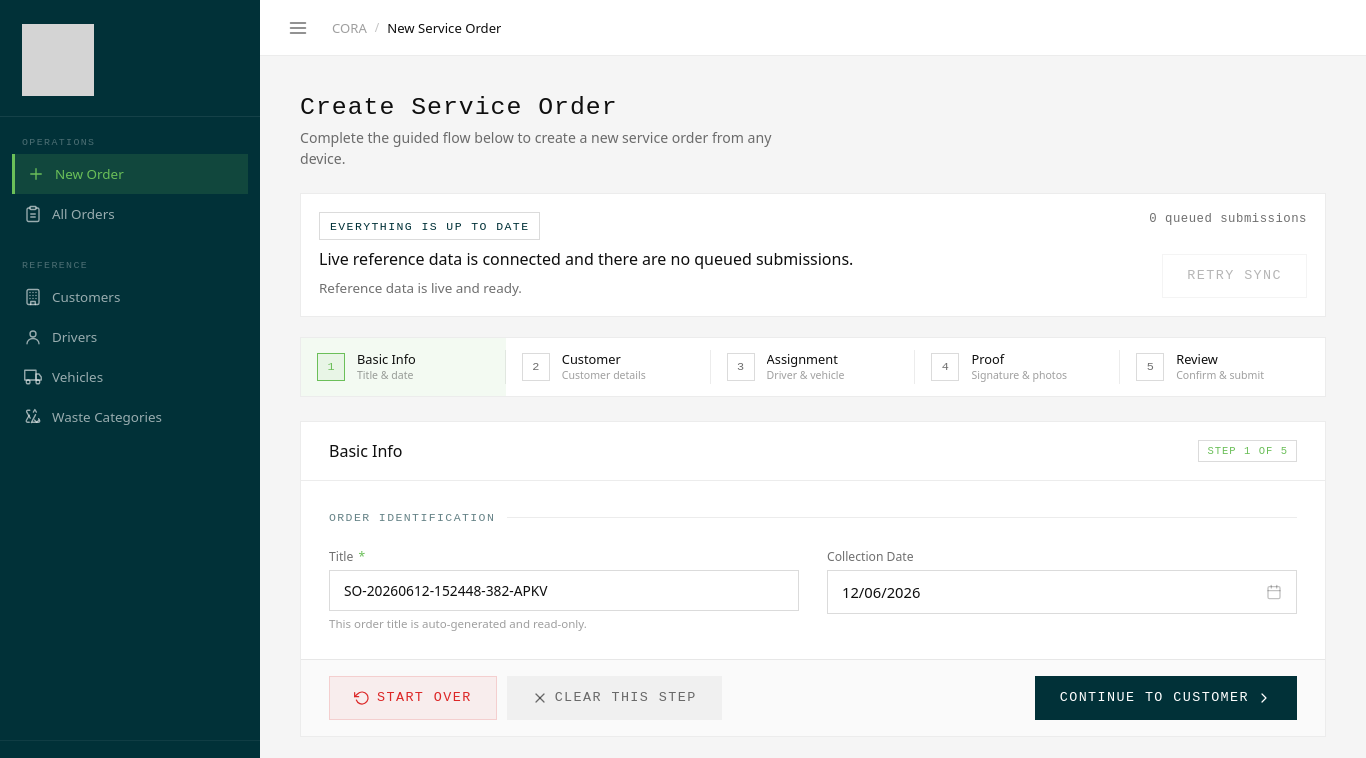
Test: App › shows order autocomplete suggestions and filters from the selected suggestion
The width and height of the screenshot is (1366, 758).
Expected: the heading "Create Service Order" is shown, left=300, top=93, right=618, bottom=121
Click the button "All Orders" at point(130, 214), box left=12, top=194, right=248, bottom=234
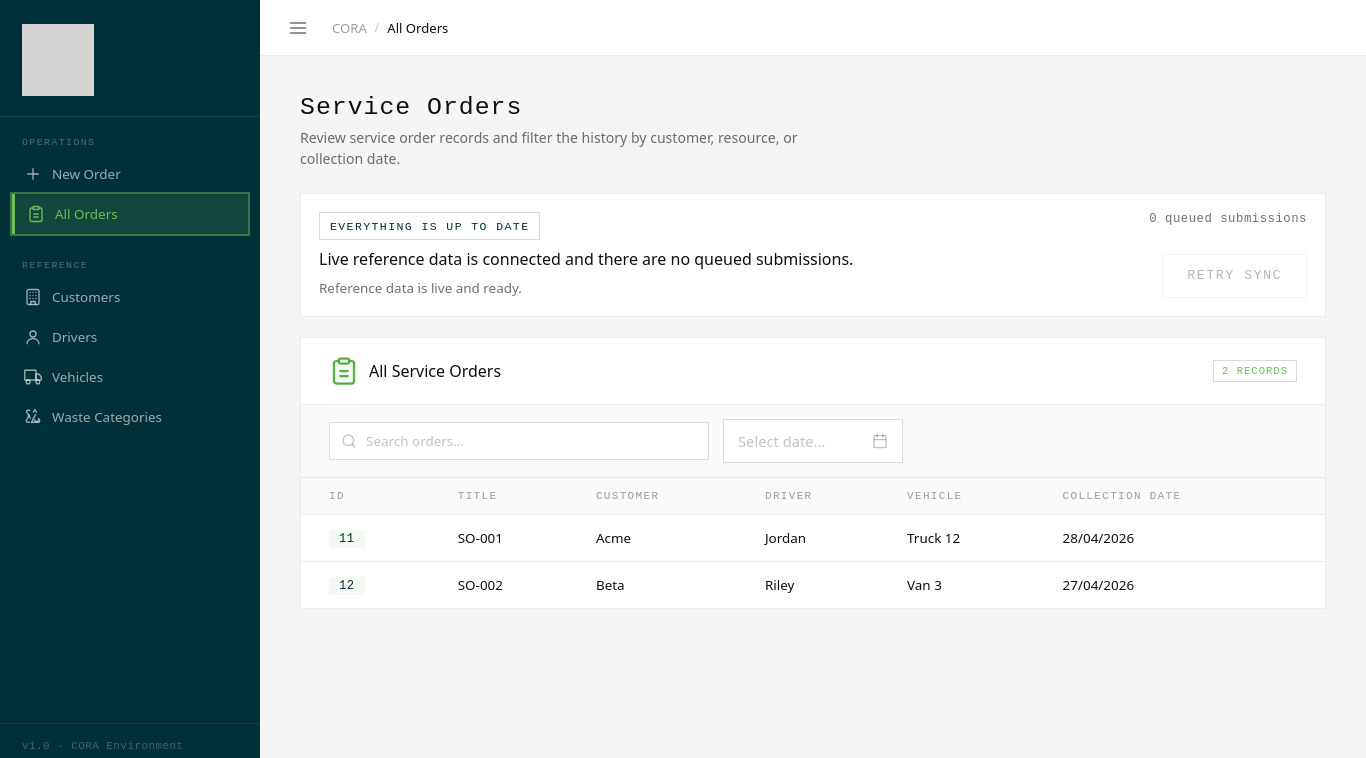
Expected: the heading "Service Orders" is shown, left=300, top=93, right=522, bottom=121
Type "truck" into the dropdown labelled "Search orders" at point(519, 441), box left=329, top=422, right=709, bottom=460
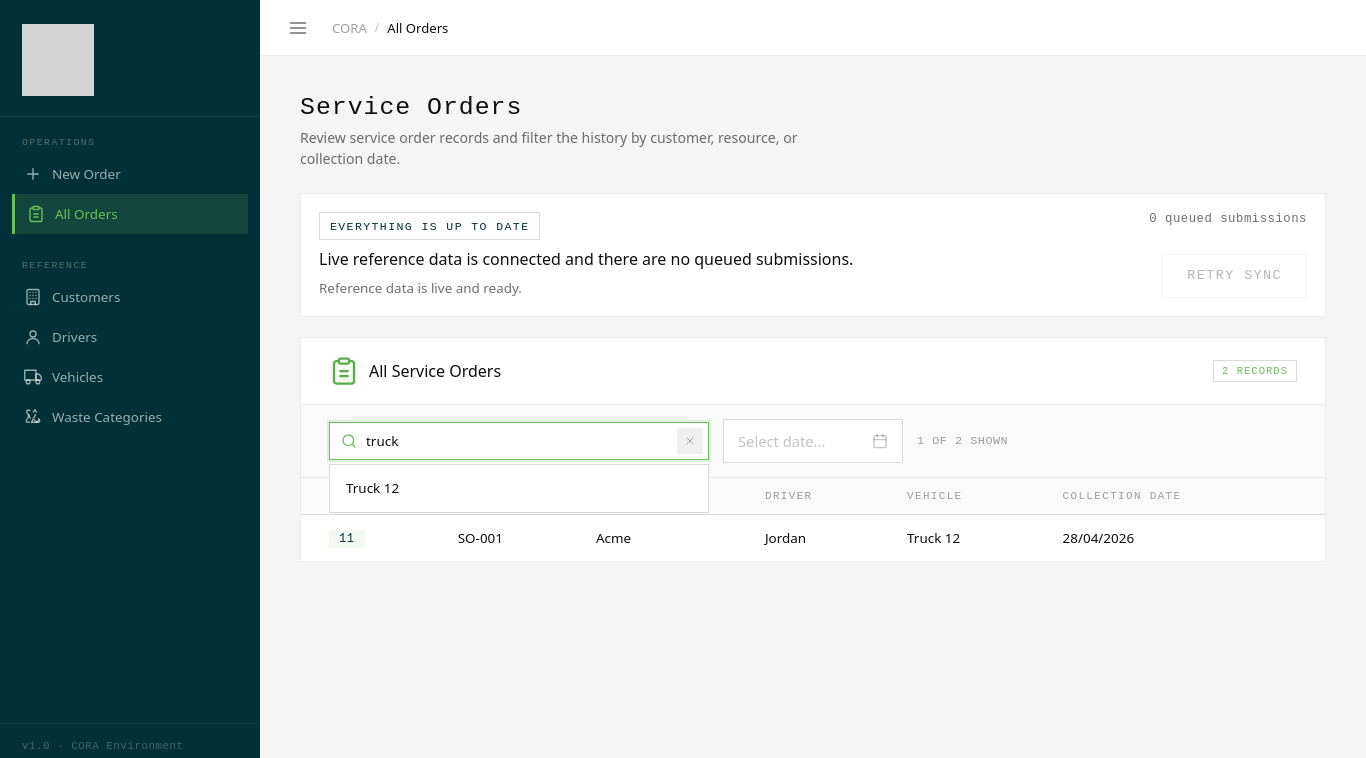
Click the option "Truck 12" at point(373, 488), box left=334, top=469, right=704, bottom=508
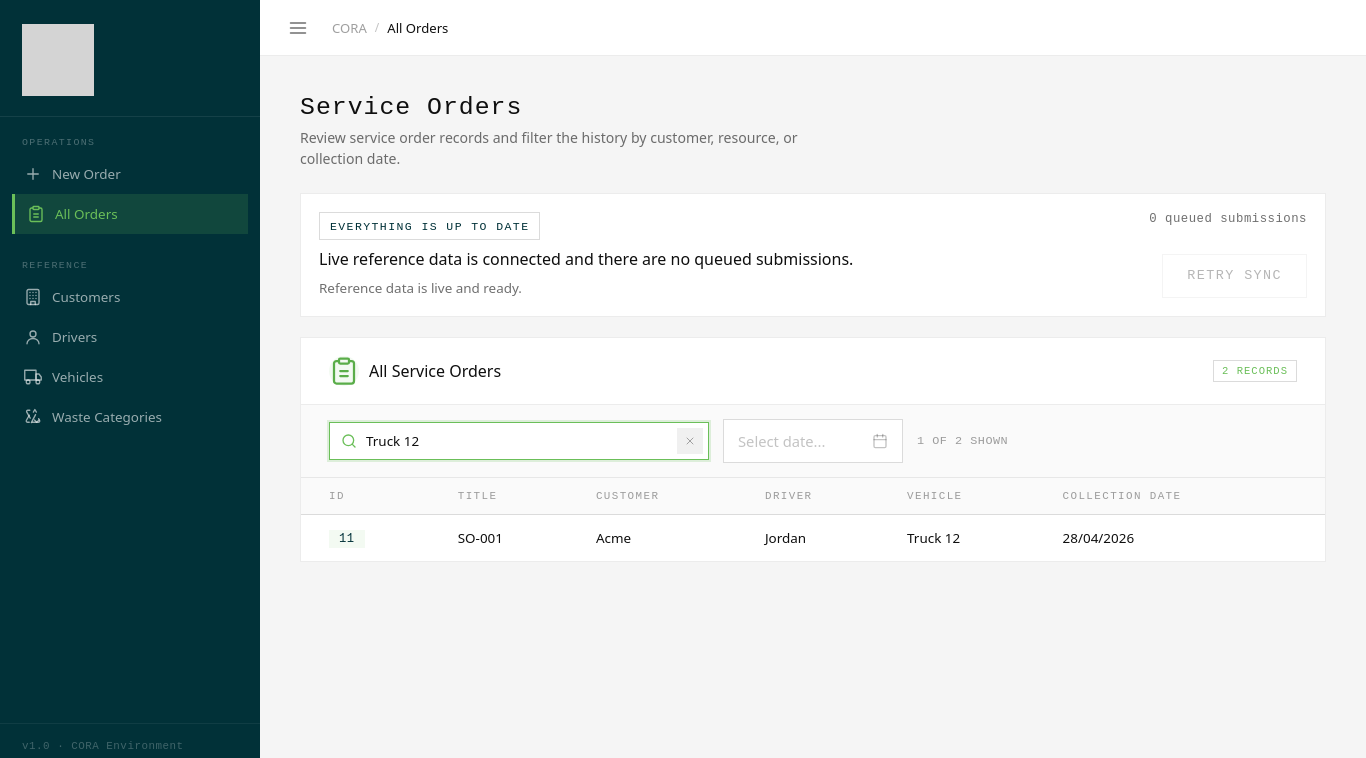
Expected: the text "1 of 2 shown" is shown, left=917, top=434, right=1008, bottom=448
Expected: the text "SO-001" is shown, left=440, top=515, right=578, bottom=561
Expected: the dropdown named "Search orders" holds "Truck 12", left=329, top=422, right=709, bottom=460
